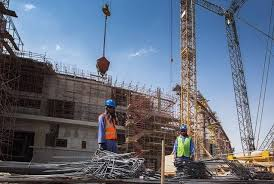helmet: (105, 98, 115, 109), (177, 122, 188, 132)
vest: (175, 138, 198, 160), (101, 116, 120, 140)
